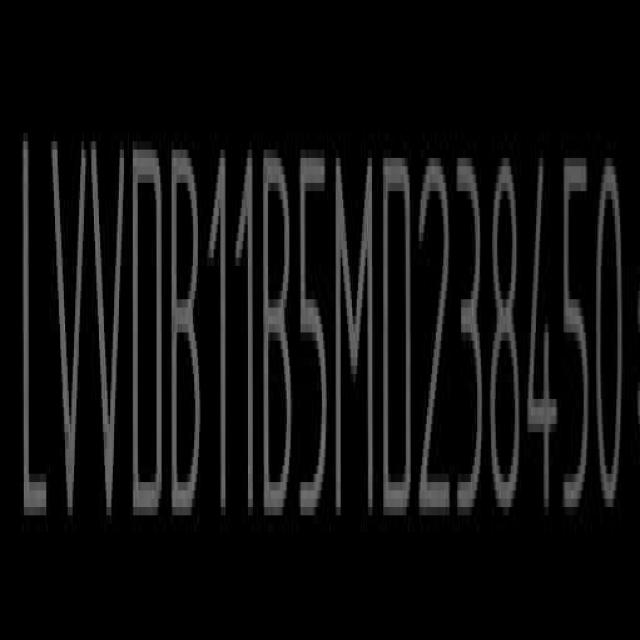0: (596, 154, 627, 521)
1: (233, 141, 255, 526), (210, 146, 232, 527)
2: (418, 155, 452, 532)
3: (457, 159, 485, 523)
4: (526, 150, 558, 526)
5: (300, 147, 331, 526), (562, 152, 593, 520)
8: (491, 155, 523, 518)
B: (172, 144, 205, 526), (262, 144, 294, 522)
D: (131, 139, 166, 532), (382, 149, 417, 527)
L: (17, 130, 48, 546)
M: (337, 147, 376, 526)
V: (92, 134, 130, 536), (52, 130, 86, 540)
